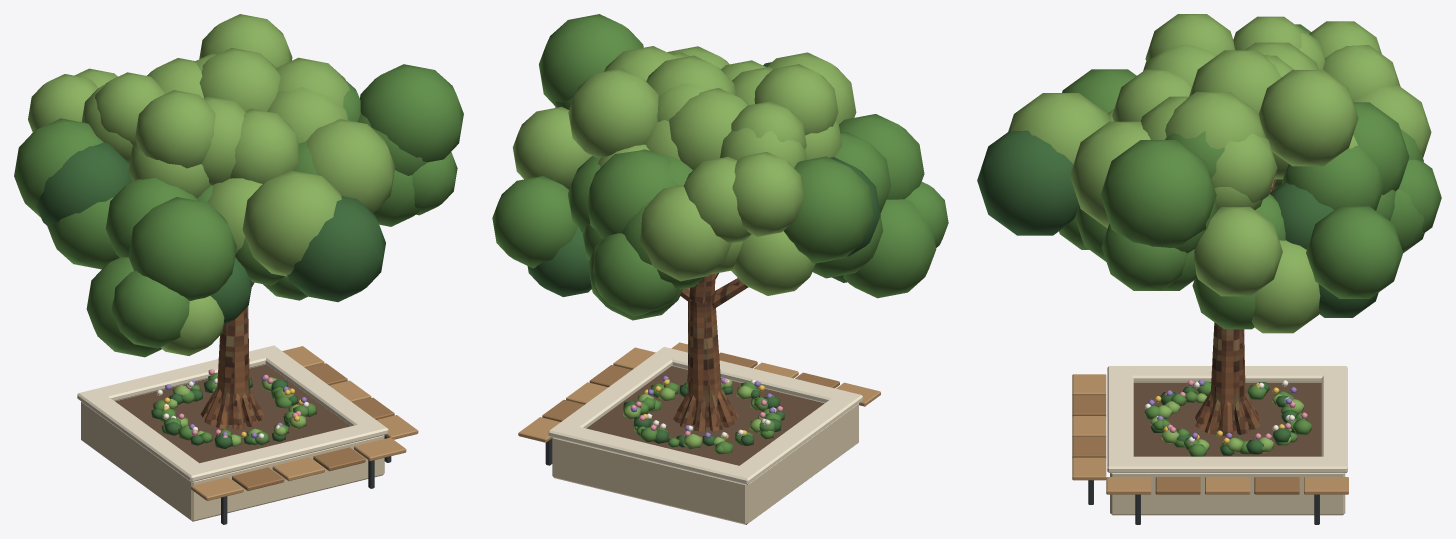
The picture shows the model from 3 angles, left to right: view 1: azimuth 30°, elevation 25°; view 2: azimuth 150°, elevation 25°; view 3: azimuth 270°, elevation 25°; orthographic projection. The views are drawn at different scales.
Parts seen in each view (by area): view 1: square_leaf_light, square_leaf, square_leaf_dark, square_limestone_pale, square_limestone, square_soil, square_bark, square_wood_light, square_wood; view 2: square_leaf_light, square_leaf, square_limestone, square_limestone_pale, square_soil, square_bark, square_leaf_dark, square_wood_light, square_wood; view 3: square_leaf_light, square_leaf, square_leaf_dark, square_limestone_pale, square_soil, square_limestone, square_wood_light, square_bark, square_wood.
Boxes of the visible parts, x1,y1,x2,y2 form: square_leaf_light: [28, 14, 395, 446]; square_leaf: [14, 64, 463, 445]; square_leaf_dark: [36, 142, 385, 448]; square_limestone_pale: [77, 345, 388, 481]; square_limestone: [81, 364, 384, 521]; square_soil: [115, 364, 350, 463]; square_bark: [200, 282, 264, 429]; square_wood_light: [191, 346, 418, 500]; square_wood: [232, 363, 394, 490]; square_leaf_light: [512, 46, 856, 449]; square_leaf: [492, 14, 948, 454]; square_limestone: [552, 366, 858, 524]; square_limestone_pale: [548, 347, 862, 484]; square_soil: [586, 366, 824, 465]; square_bark: [673, 273, 748, 431]; square_leaf_dark: [527, 62, 880, 447]; square_wood_light: [518, 342, 880, 442]; square_wood: [542, 352, 839, 421]; square_leaf_light: [1008, 14, 1431, 452]; square_leaf: [1059, 24, 1441, 456]; square_leaf_dark: [977, 130, 1378, 455]; square_limestone_pale: [1107, 366, 1347, 472]; square_soil: [1133, 382, 1321, 456]; square_limestone: [1110, 382, 1345, 515]; square_wood_light: [1072, 374, 1348, 494]; square_bark: [1195, 179, 1276, 435]; square_wood: [1072, 395, 1299, 494].
Bounding box in the file's own units: 4.82 × 4.93 × 4.94.
14 materials, 1 textured.
